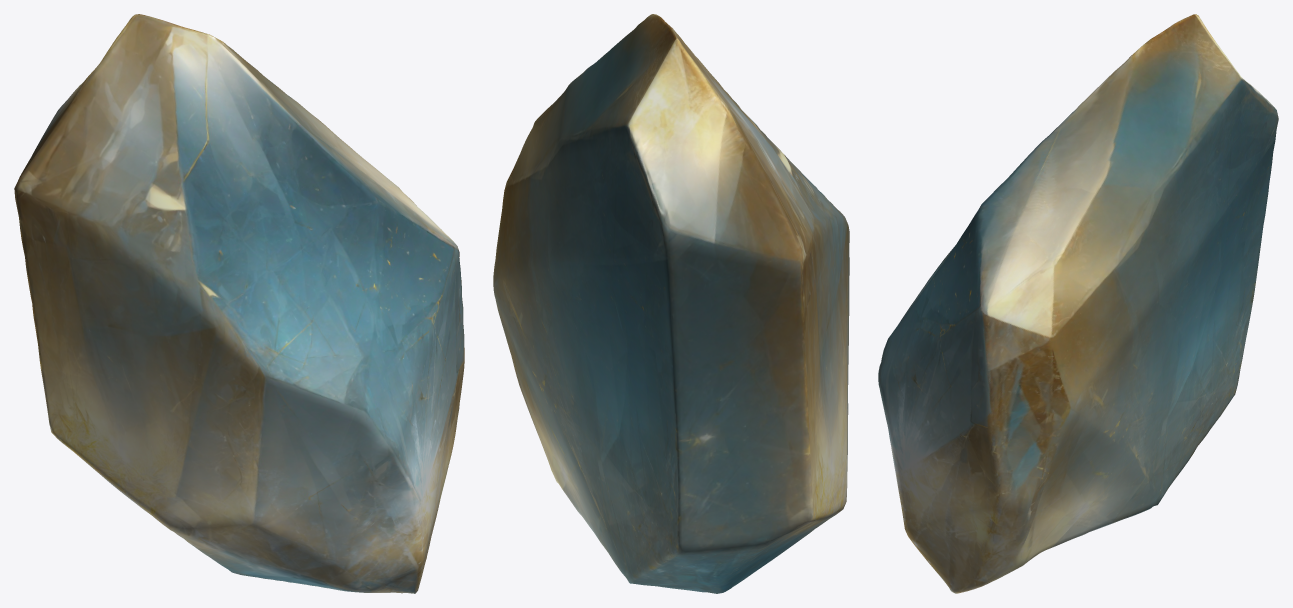
File: Create_a_3D_model_of__0318103040_texture.glb
The picture shows the model from 3 angles, left to right: view 1: azimuth 30°, elevation 25°; view 2: azimuth 150°, elevation 25°; view 3: azimuth 270°, elevation 25°; orthographic projection. The views are drawn at different scales.
Bounding box in the file's own units: 1.33 × 1.98 × 1.42.
1 material, 1 textured.
